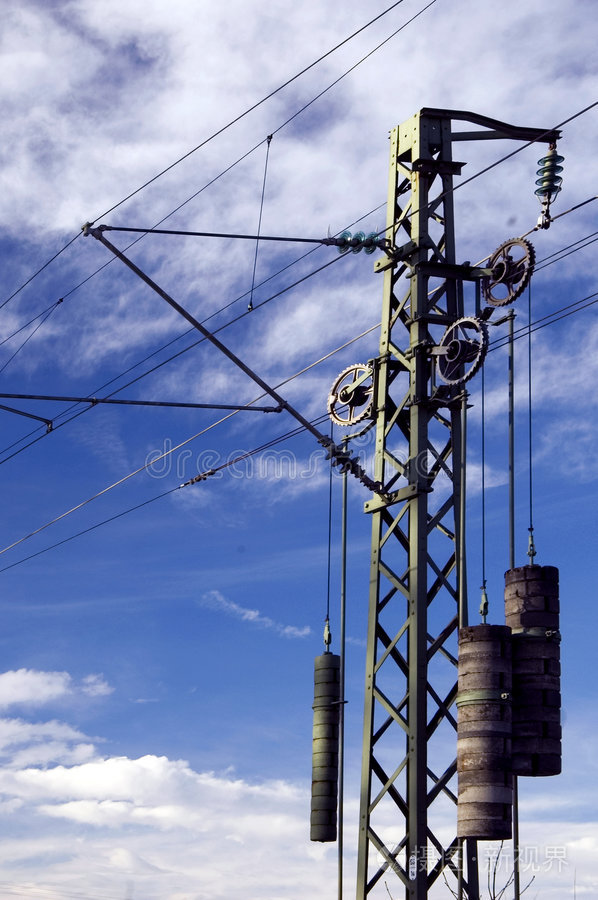insulator: (531, 153, 569, 201), (334, 228, 377, 259), (325, 444, 361, 476)
